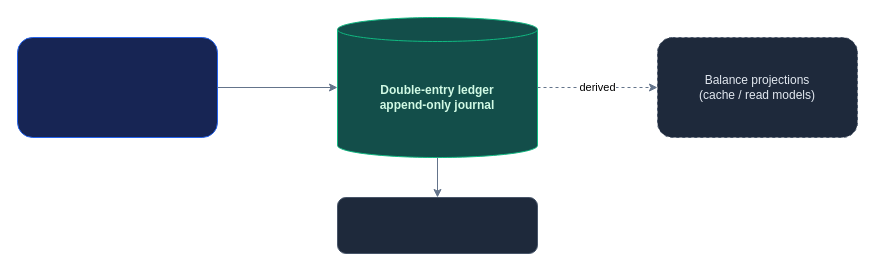
Image size: 875x271. Some labels were removed from this diagram. The box of each missing label's shape, as (x1, y1, x2, y2) in pixels:
Finance / audit reconciliation: (336, 196, 538, 254)
Payment API commands & callbacks: (16, 36, 218, 138)
